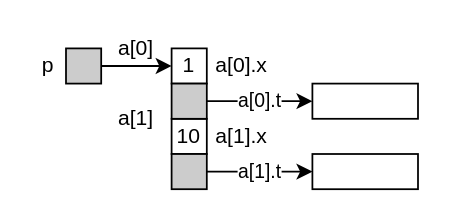
The diagram is 449 pixels wide and 220 high, and some of its shapes have lost their labels. The centre of each missing label's shape, as x and y in pixels:
"abcde\0": pixel 364 100
"xyz\0": pixel 364 170
